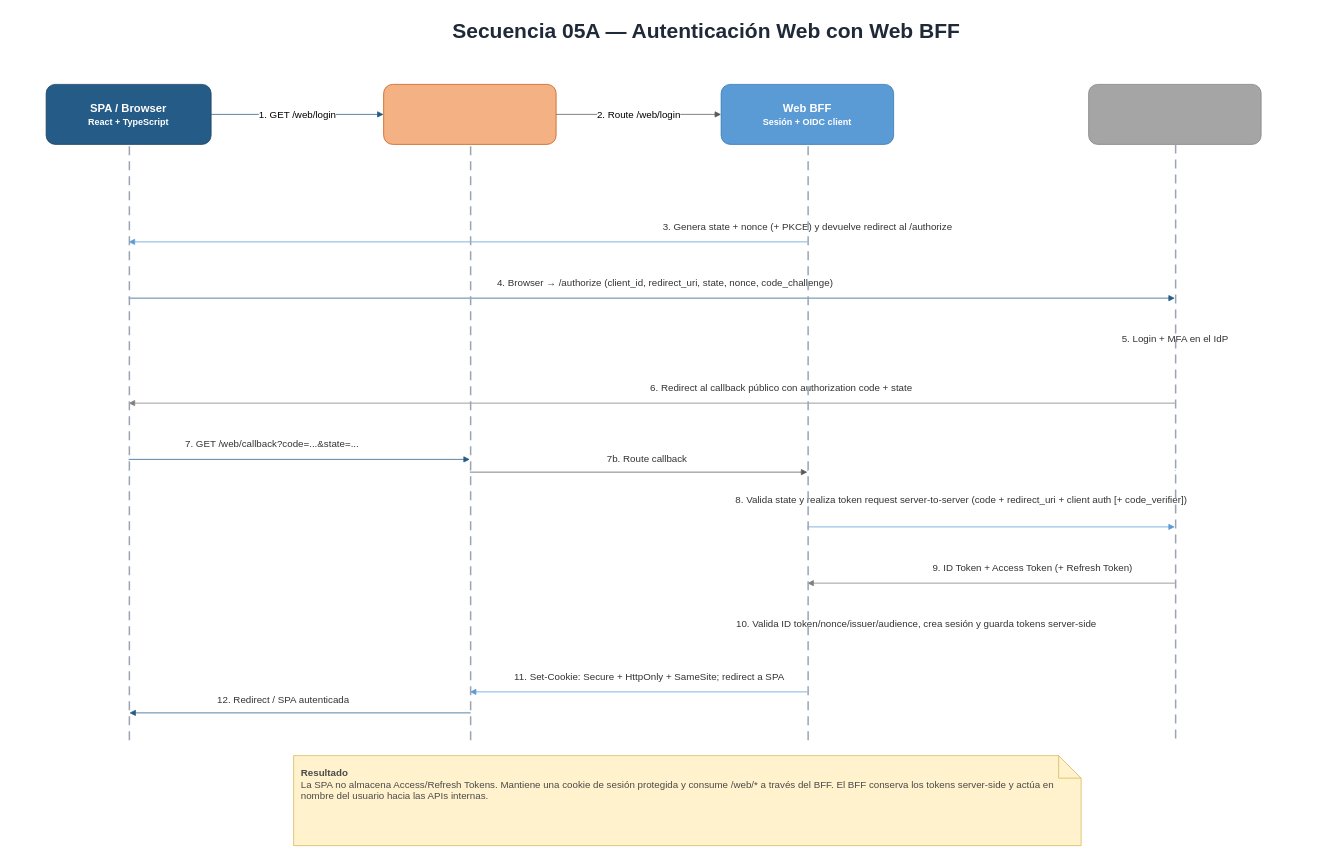
Image size: 1334x859. Some labels were removed from this diagram. Here are the shapes that lost their labels. From the top down, the centre of each, then its label:
At (x=469, y=114): "Amazon API Gateway /web/*".
At (x=1174, y=114): "IdP corporativo OIDC / MFA".
